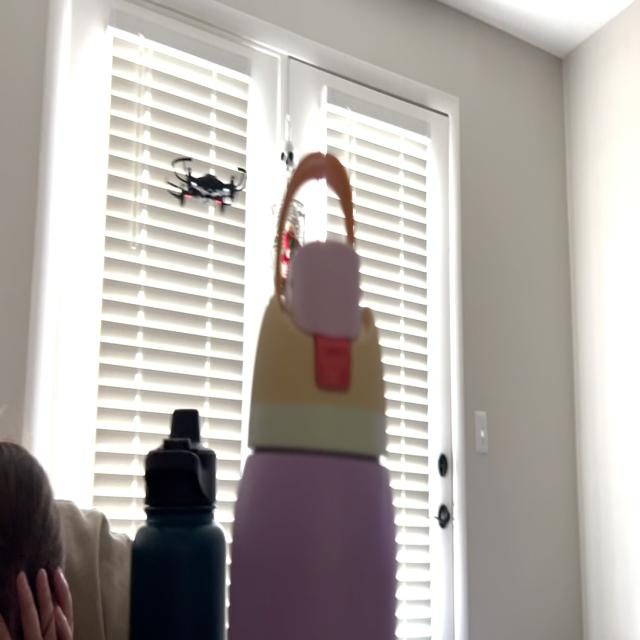drone: (156, 138, 252, 220)
